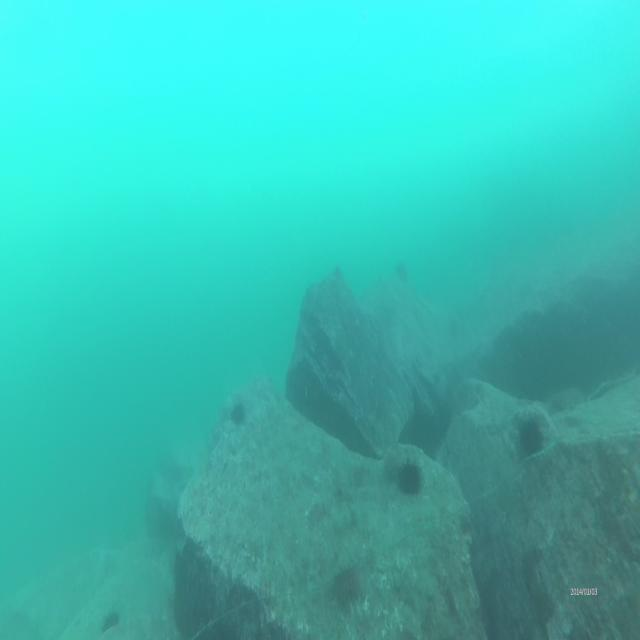echinus: (333, 559, 364, 613), (518, 412, 546, 458), (396, 457, 424, 501), (229, 398, 247, 429)
